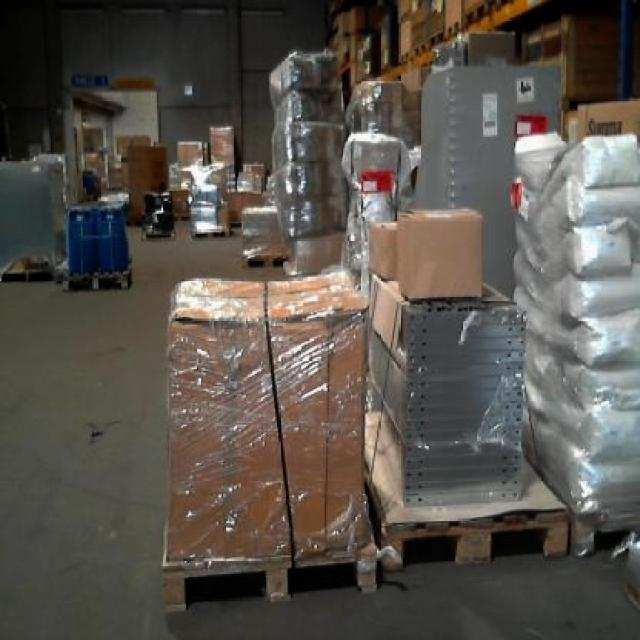pallets: (163, 271, 372, 606), (512, 134, 637, 551), (162, 277, 289, 608)
